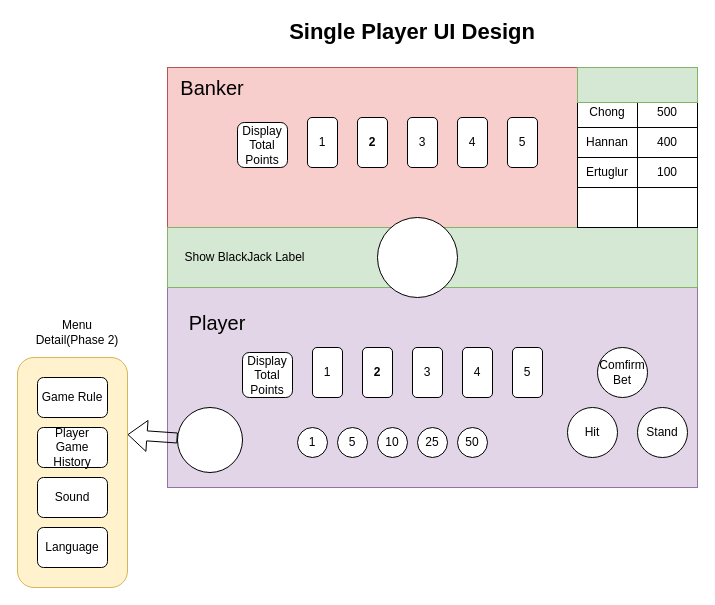
Image size: 715x605. Some labels were removed from this diagram. Each missing label, with the centre of its shape:
Menu: point (209, 439)
Show Count Down(When need): point (417, 257)
Top Winners: point (637, 84)
